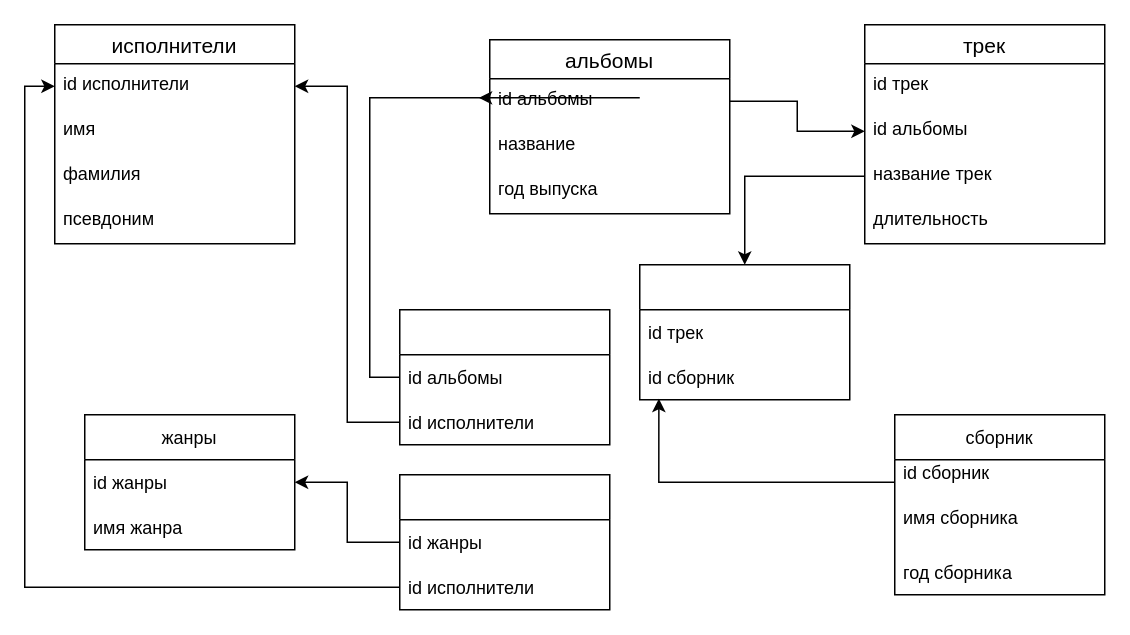
This 1130x635 diagram has some shape labels left out. The box of each missing label's shape, as (x1, y1, x2, y2) in pixels:
исп-альбомы: (398, 308, 610, 445)
исп-жанры: (398, 473, 610, 610)
трек-сборник: (638, 263, 850, 400)
